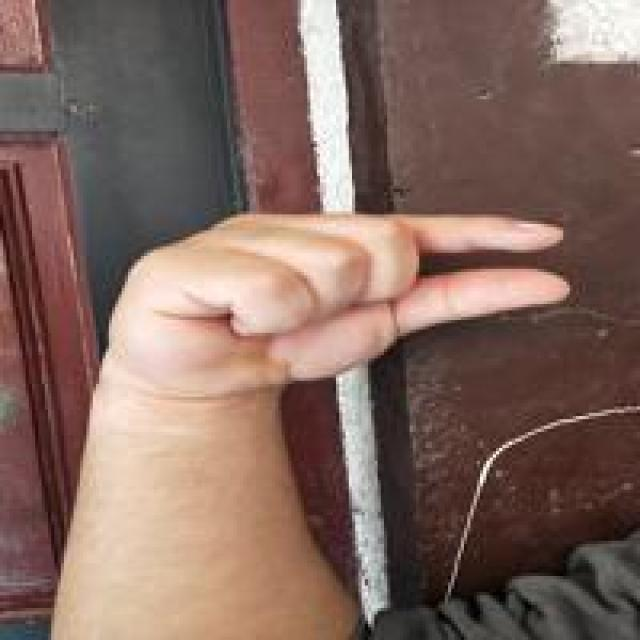G: (115, 200, 576, 405)
